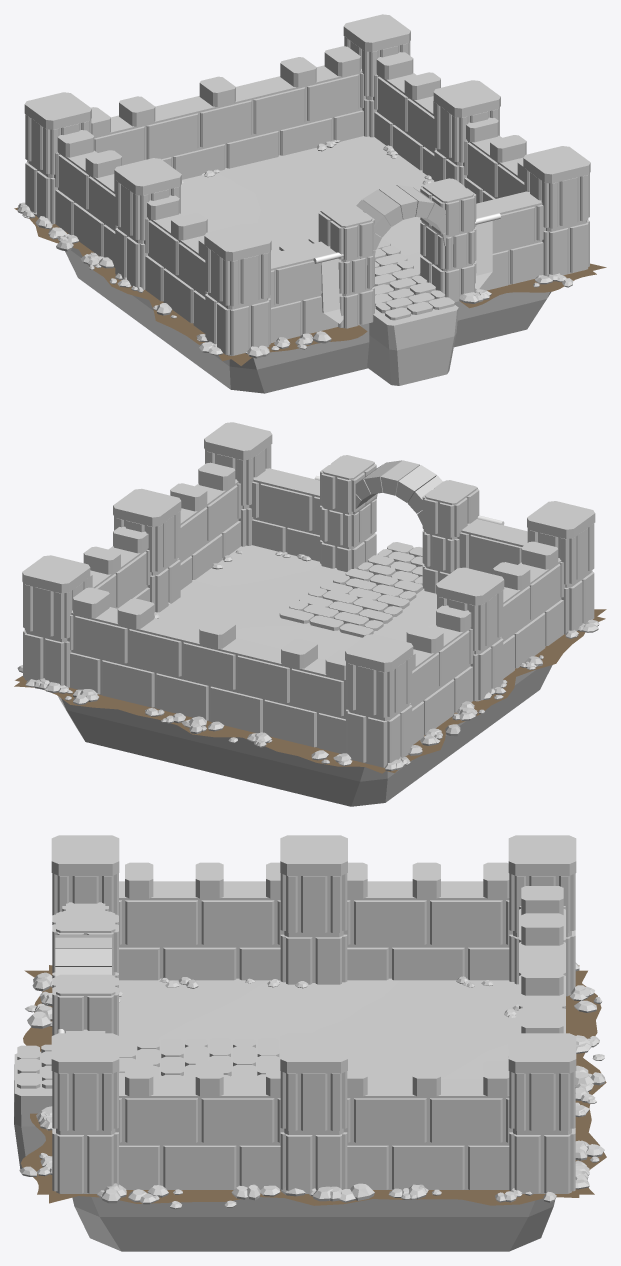
File: wall.fbx
3 views of the same model, one above another, from view 1: azimuth 30°, elevation 25°; view 2: azimuth 150°, elevation 25°; view 3: azimuth 270°, elevation 25° (orthographic). The views are drawn at different scales.
Parts seen in each view (by area): view 1: wall.006; view 2: wall.006; view 3: wall.006.
Boxes of the visible parts, bbox=[...] form: wall.006: bbox=[14, 14, 606, 393]; wall.006: bbox=[14, 422, 606, 806]; wall.006: bbox=[14, 835, 606, 1251].
Bounding box in the file's own units: 3 × 1.19 × 2.99.
